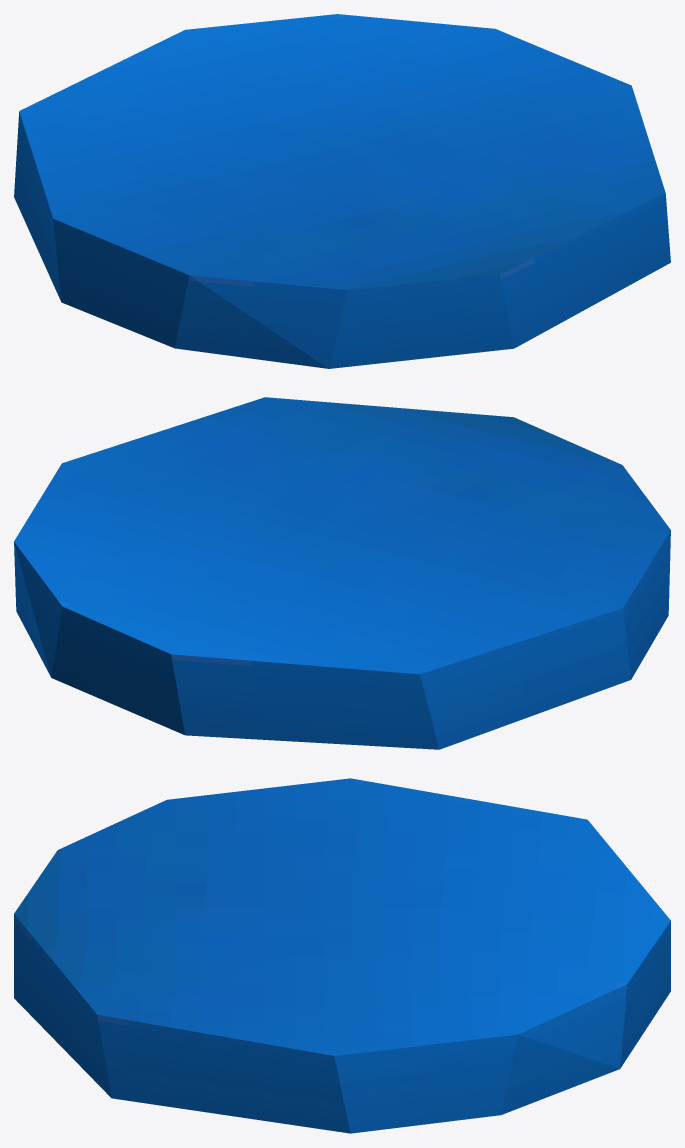
Rendered from chip.glb.
3 views of the same model, one above another, from view 1: azimuth 30°, elevation 25°; view 2: azimuth 150°, elevation 25°; view 3: azimuth 270°, elevation 25° (orthographic).
Parts seen in each view (by area): view 1: Циліндр.002; view 2: Циліндр.002; view 3: Циліндр.002.
Boxes of the visible parts, box(x1,y1,x2,y2) form: Циліндр.002: box(14, 14, 670, 368); Циліндр.002: box(14, 397, 670, 749); Циліндр.002: box(14, 778, 670, 1133).
Bounding box in the file's own units: 0.15 × 0.0196 × 0.15.
Materials: 1 (1 with a texture image).
